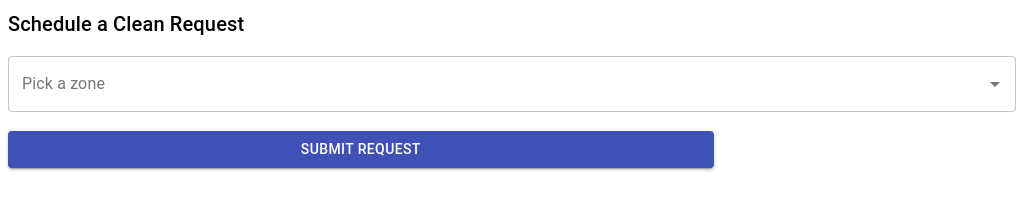
Scenario: Cleaning Form › should render error messages when invalid form is submitted
Click the button "Submit Request" at (361, 149), box left=8, top=131, right=714, bottom=168
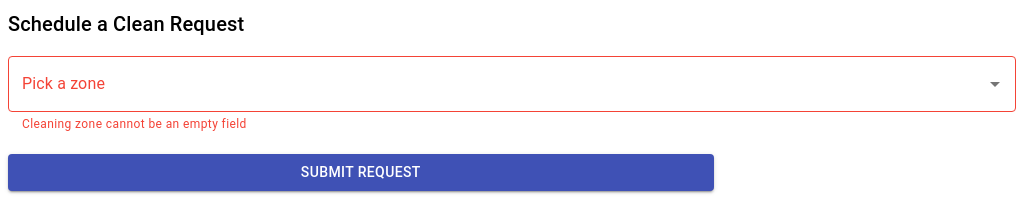
Expected: the text "Cleaning zone cannot be an empty field" is shown, left=22, top=117, right=247, bottom=131
